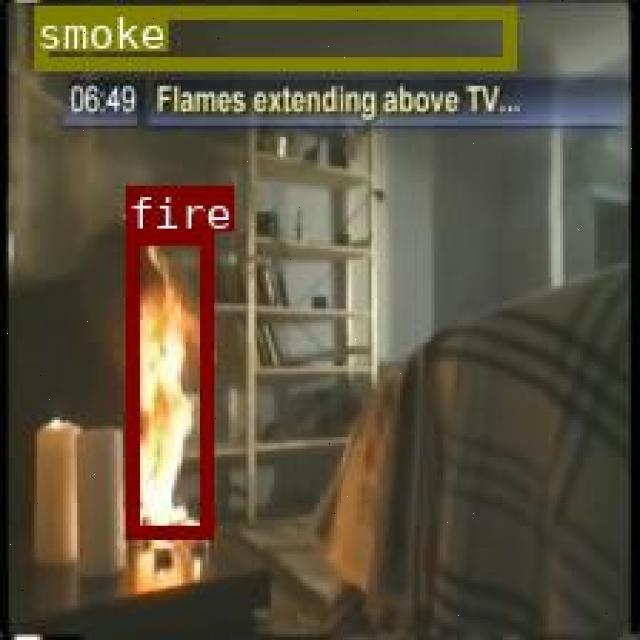fire: (123, 231, 211, 537)
smoke: (34, 5, 513, 66)
